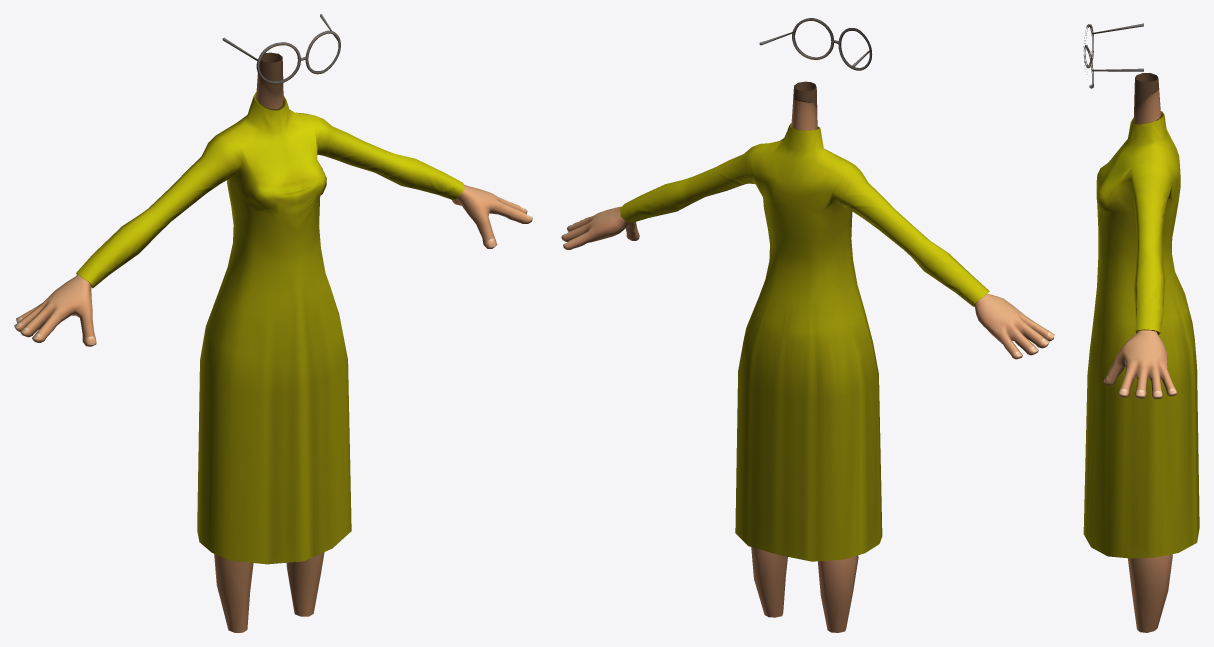
File: Dress.fbx
3 views of the same model, side by side, from view 1: azimuth 30°, elevation 25°; view 2: azimuth 150°, elevation 25°; view 3: azimuth 270°, elevation 25° (orthographic). The views are drawn at different scales.
Visible parts, largest first — view 1: TTGDressC1, Glasses; view 2: TTGDressC1, Glasses; view 3: TTGDressC1, Glasses.
Boxes of the visible parts, x1,y1,x2,y2 form: TTGDressC1: (14, 52, 532, 632); Glasses: (222, 14, 340, 84); TTGDressC1: (561, 81, 1054, 632); Glasses: (759, 18, 872, 70); TTGDressC1: (1083, 73, 1199, 632); Glasses: (1083, 23, 1143, 88).
Size of the model in its own units: 98.62 by 114 by 20.68.
